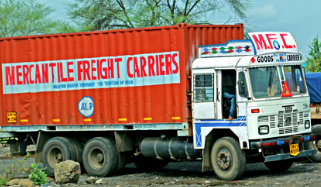truck: (1, 20, 311, 179)
